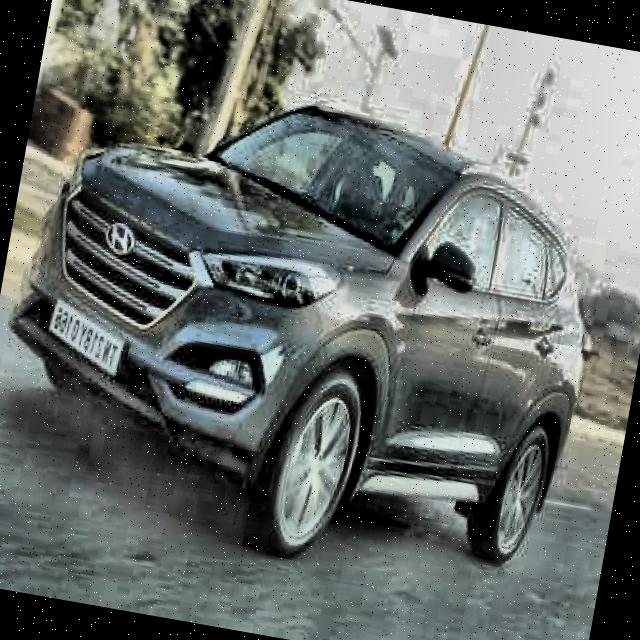license_plate: (38, 296, 135, 375)
